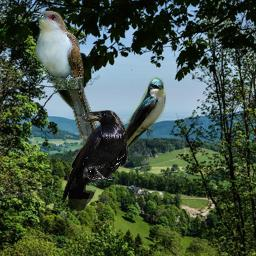Crow: (62, 110, 128, 213)
Cuckoo: (31, 10, 104, 153)
Swallow: (111, 77, 166, 161)
